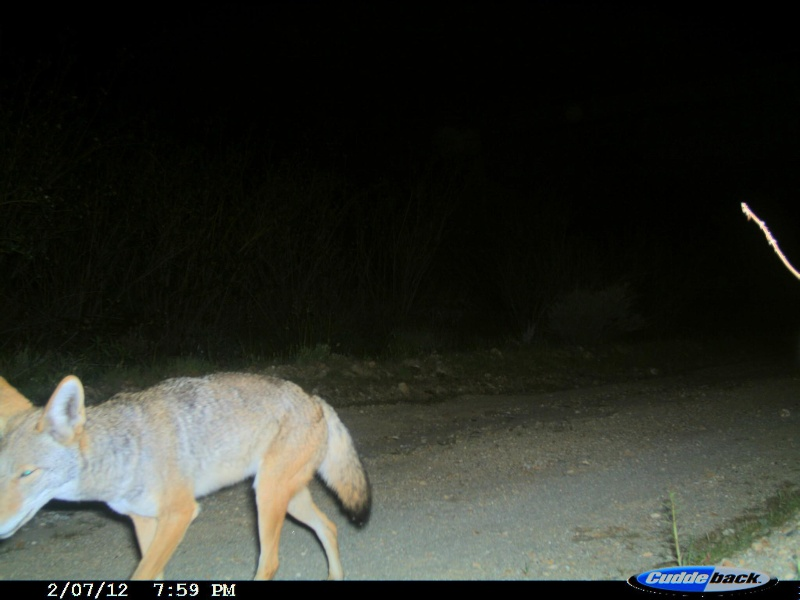coyote: (1, 361, 374, 579)
